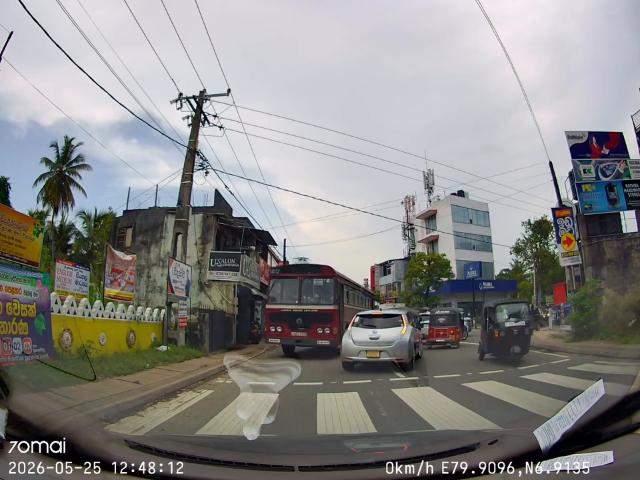illegal overtaking: (258, 255, 340, 357)
